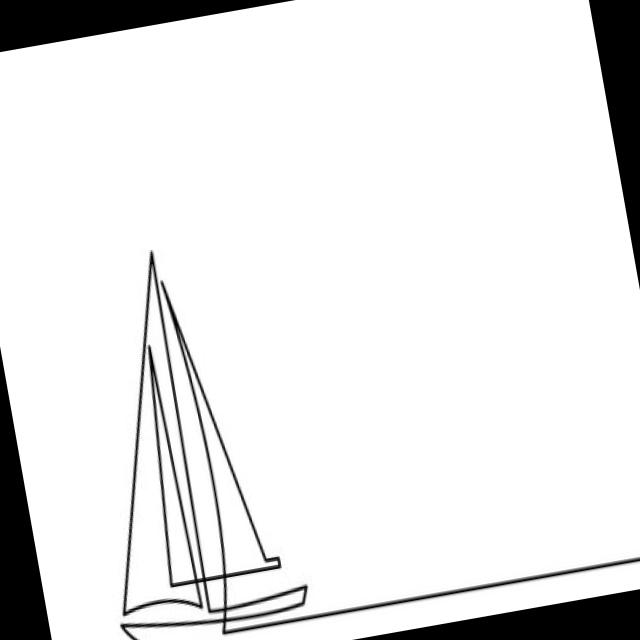boat: (45, 213, 325, 640)
